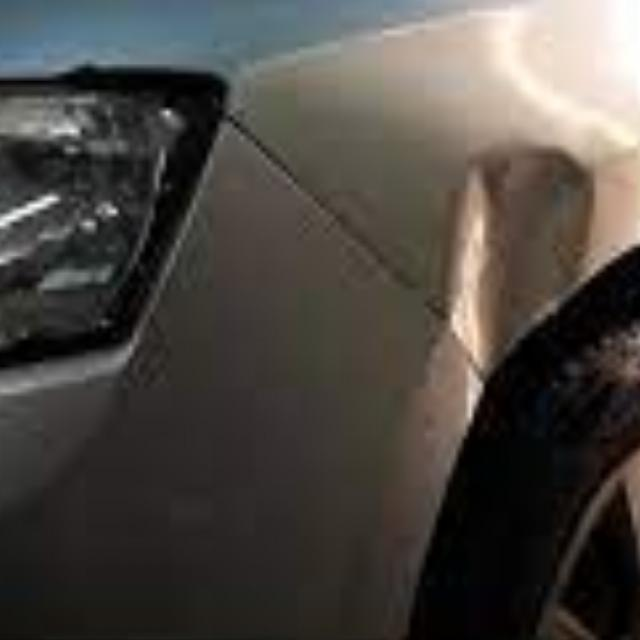dents: (419, 142, 612, 346)
